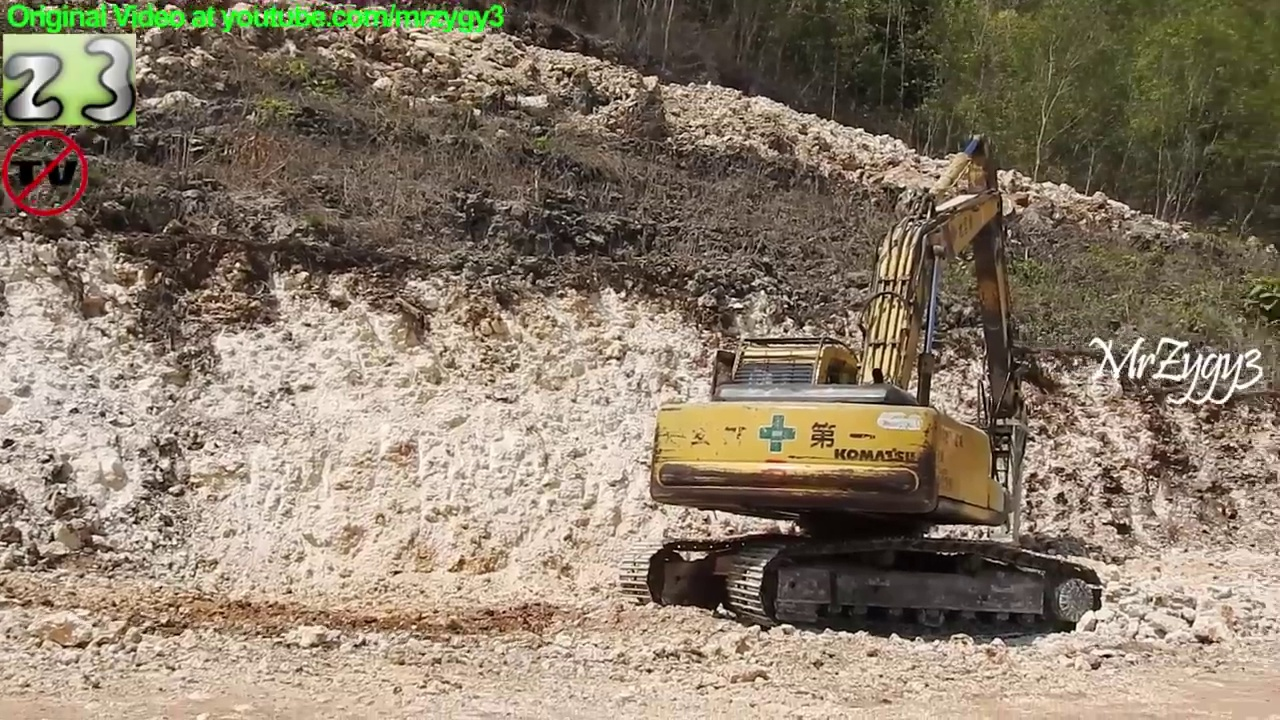excavator breaker: (615, 127, 1112, 650)
